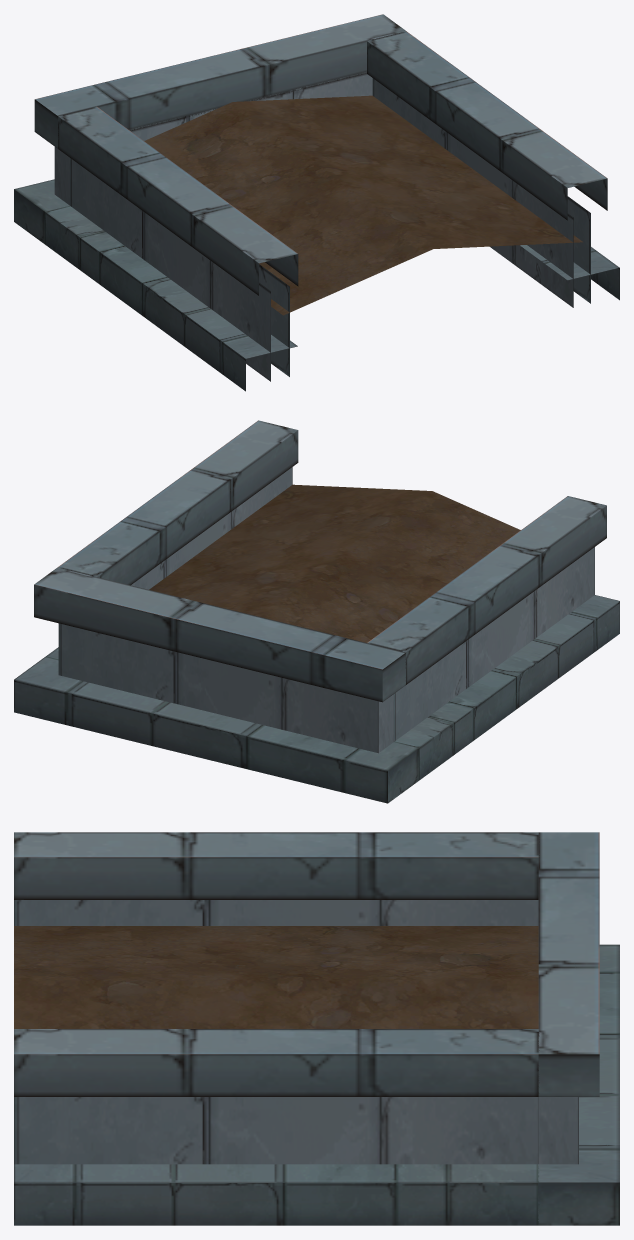
File: 2_CZ_HuaTan_01.FBX
3 renders of one model, top to bottom at view 1: azimuth 30°, elevation 25°; view 2: azimuth 150°, elevation 25°; view 3: azimuth 270°, elevation 25°, orthographic. The views are drawn at different scales.
Parts seen in each view (by area): view 1: 2_CZ_HuaTan_01, 2_CZ_HuaTan_02; view 2: 2_CZ_HuaTan_01, 2_CZ_HuaTan_02; view 3: 2_CZ_HuaTan_01, 2_CZ_HuaTan_02.
Boxes of the visible parts, box(x1,y1,x2,y2) form: 2_CZ_HuaTan_01: box(45, 31, 619, 391); 2_CZ_HuaTan_02: box(14, 14, 405, 244); 2_CZ_HuaTan_01: box(45, 420, 619, 780); 2_CZ_HuaTan_02: box(14, 567, 419, 803); 2_CZ_HuaTan_01: box(14, 832, 539, 1225); 2_CZ_HuaTan_02: box(538, 832, 619, 1225).
Bounding box in the file's own units: 322 × 103 × 346.
